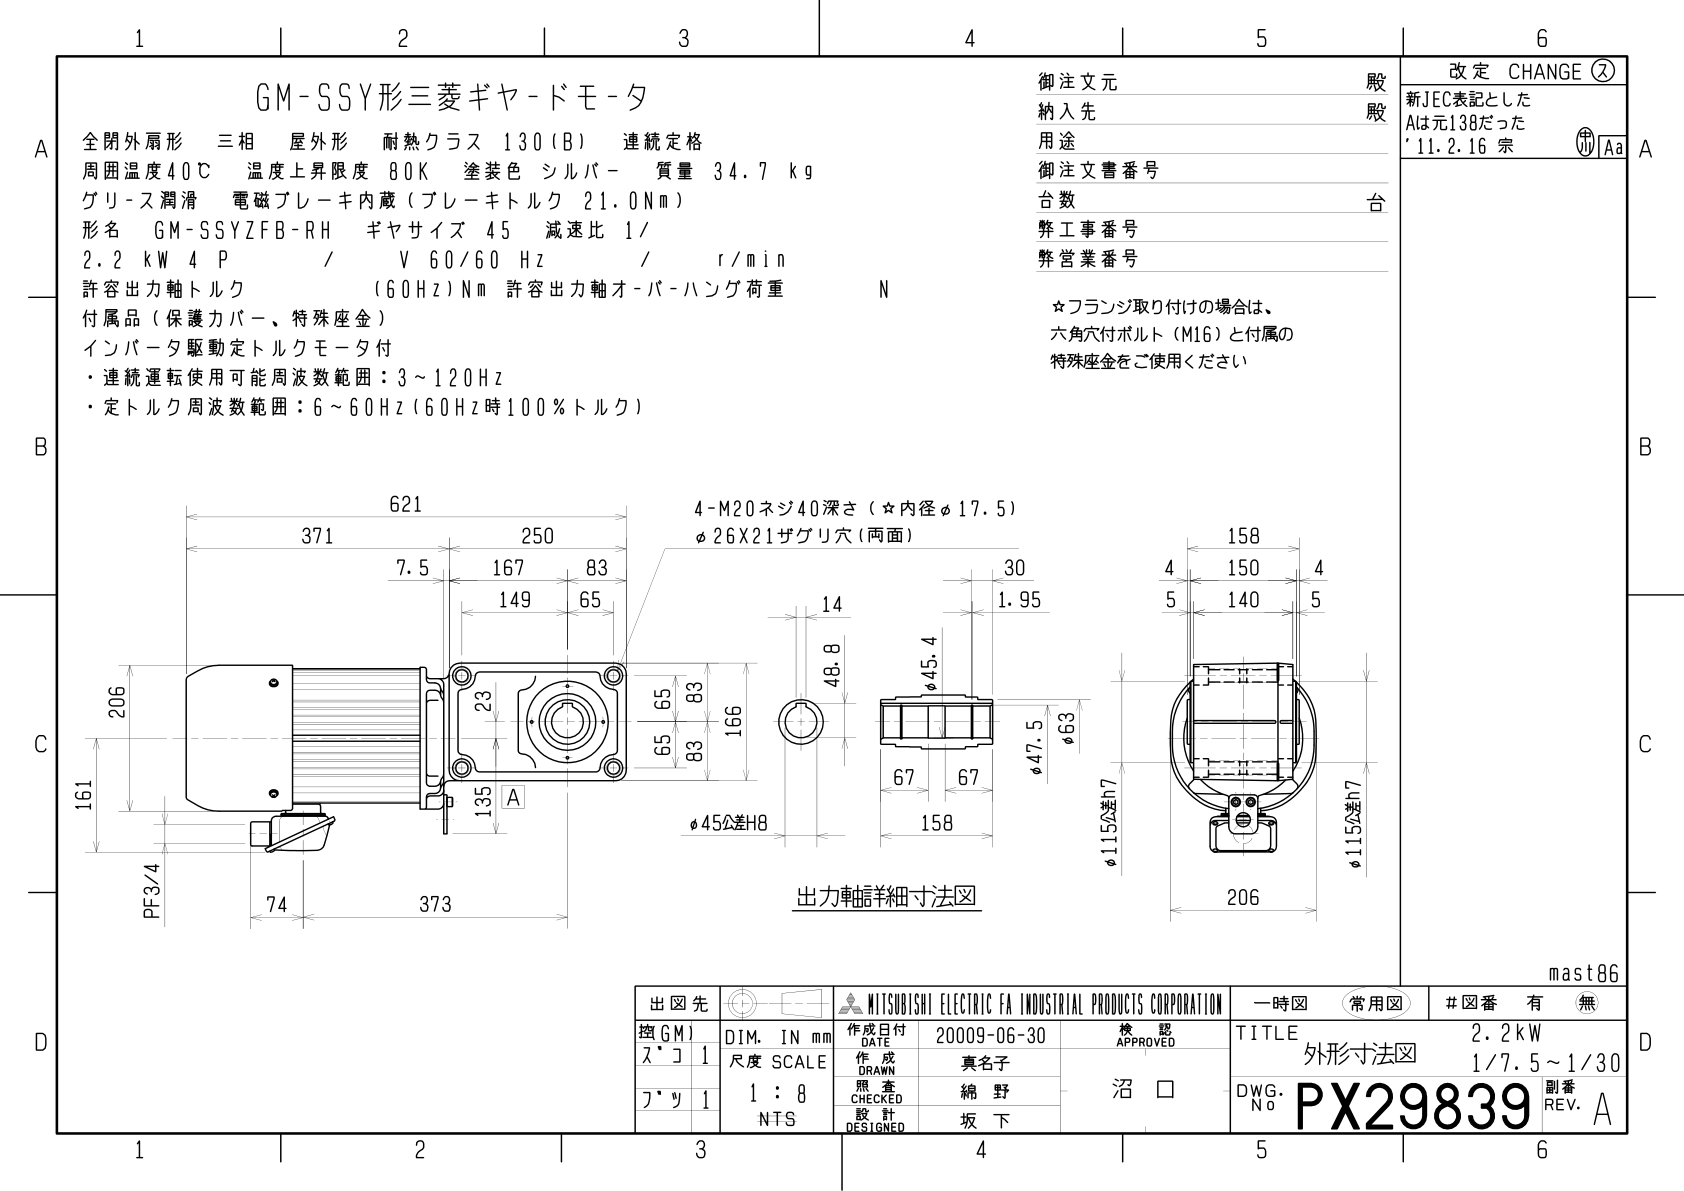GM_SSY_インバータ屋外_三相: (70, 469, 1392, 945)
